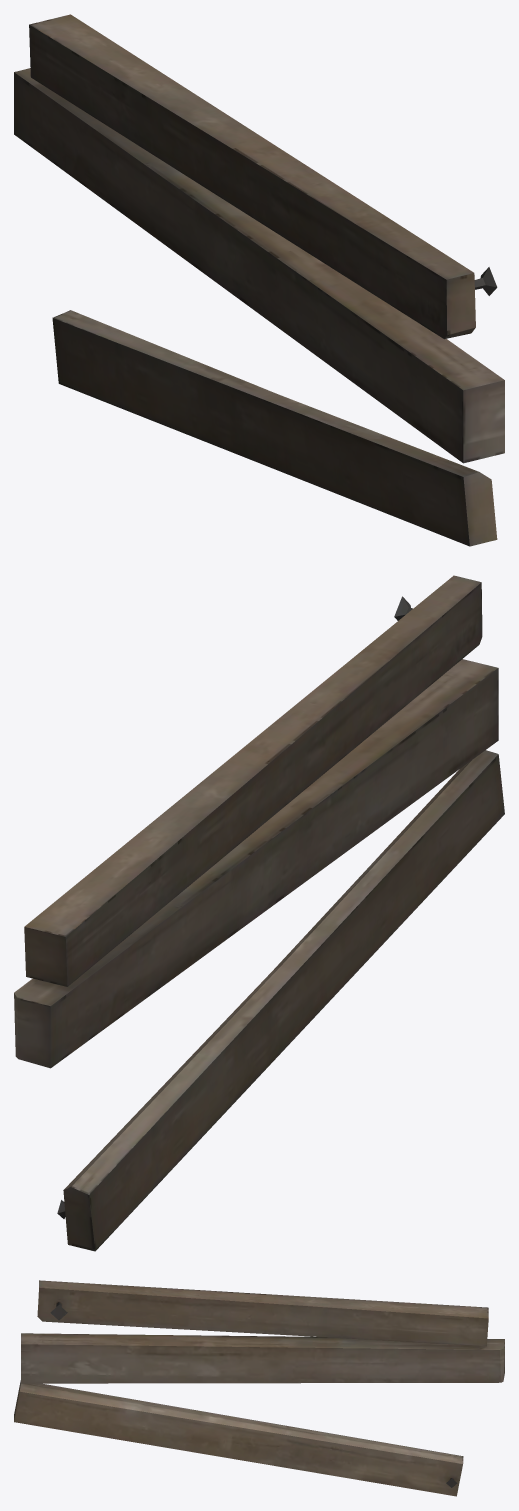
3 renders of one model, top to bottom at view 1: azimuth 30°, elevation 25°; view 2: azimuth 150°, elevation 25°; view 3: azimuth 270°, elevation 25°, orthographic. The views are drawn at different scales.
Parts seen in each view (by area): view 1: body0_model0_lod0_mesh0; view 2: body0_model0_lod0_mesh0; view 3: body0_model0_lod0_mesh0.
Boxes of the visible parts, x1,y1,x2,y2 form: body0_model0_lod0_mesh0: [14, 14, 504, 546]; body0_model0_lod0_mesh0: [14, 575, 504, 1251]; body0_model0_lod0_mesh0: [14, 1280, 504, 1496].
Bounding box in the file's own units: 7.44 × 45.03 × 95.94.
Materials: 1 (1 with a texture image).
